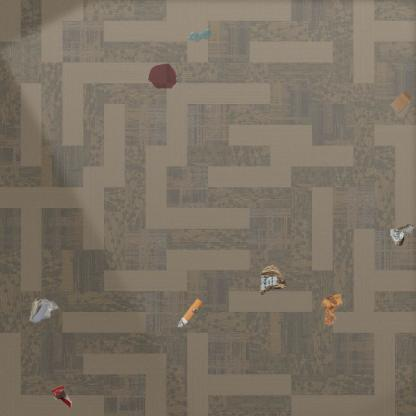dirty: (259, 263, 288, 298), (319, 292, 345, 326), (176, 298, 204, 328), (29, 297, 59, 324), (389, 88, 415, 119), (389, 222, 415, 247), (50, 384, 72, 410)
liquid: (148, 63, 177, 88), (186, 28, 212, 44)
